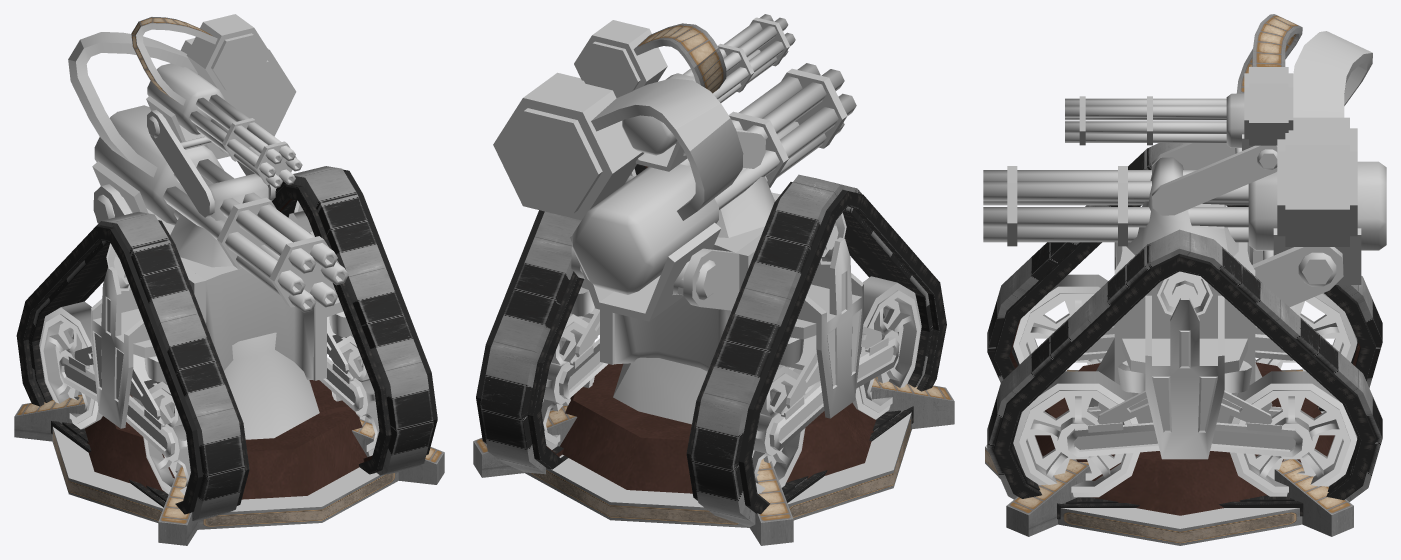
File: EnemyMeshes.FBX
3 renders of one model, left to right at view 1: azimuth 30°, elevation 25°; view 2: azimuth 150°, elevation 25°; view 3: azimuth 270°, elevation 25°, orthographic. The views are drawn at different scales.
Visible parts, largest first — view 1: TankTruck, TurretBase, TurretGun, TankGun, TurretArm, TankArm; view 2: TankTruck, TurretGun, TurretBase, TankGun, TurretArm, TankArm; view 3: TankTruck, TurretGun, TurretBase, TankGun, TankArm, TurretArm.
Boxes of the visible parts, x1,y1,x2,y2 form: TankTruck: (16,166,437,521); TurretBase: (14,380,444,545); TurretGun: (68,32,348,312); TankGun: (131,14,302,188); TurretArm: (93,184,319,439); TankArm: (147,109,275,267); TankTruck: (476,164,946,527); TurretGun: (493,63,856,321); TurretBase: (473,363,954,545); TankGun: (574,14,795,171); TurretArm: (571,247,820,424); TankArm: (716,128,774,237); TankTruck: (987,143,1382,519); TurretGun: (983,31,1386,286); TurretBase: (985,362,1353,545); TankGun: (1065,14,1302,169); TankArm: (1126,143,1277,256); TurretArm: (1087,247,1343,409).
Size of the model in its own units: 35.53 by 43.49 by 36.71.
